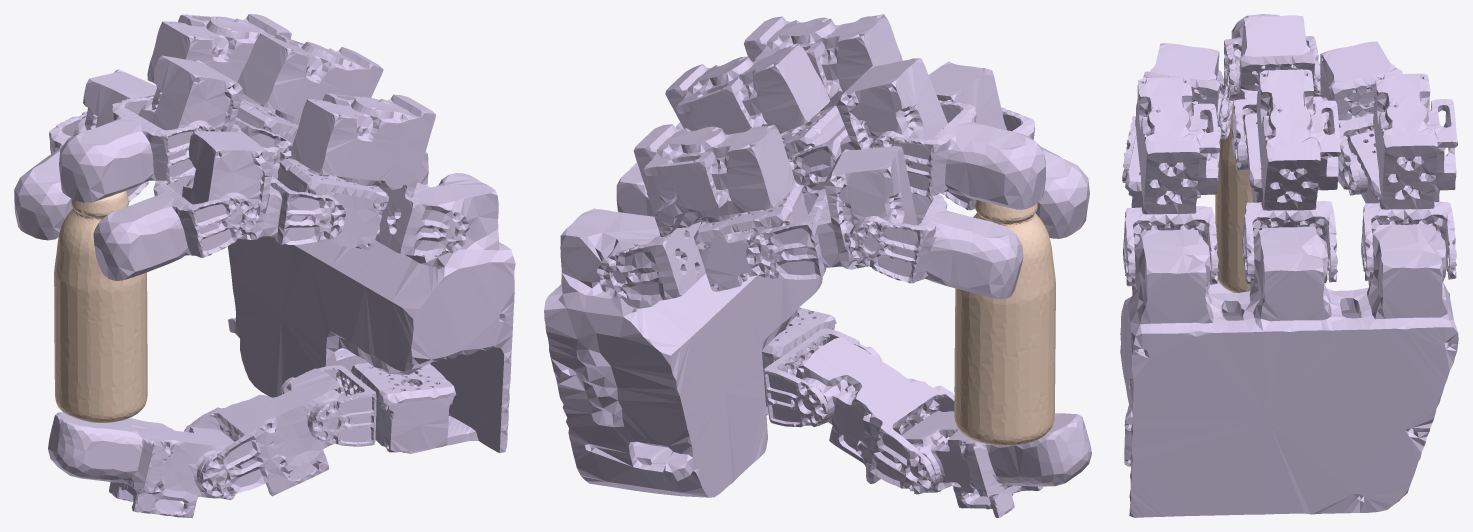
The model's file is 79bb8f418a7e5b-closed.glb.
3 views of the same model, side by side, from view 1: azimuth 30°, elevation 25°; view 2: azimuth 150°, elevation 25°; view 3: azimuth 270°, elevation 25° (orthographic). The views are drawn at different scales.
Visible parts, largest first — view 1: LEAP_hand, world; view 2: LEAP_hand, world; view 3: LEAP_hand, world.
Part boxes in pixels (<box>): LEAP_hand: <box>14,14,515,517</box>; world: <box>54,191,147,423</box>; LEAP_hand: <box>544,14,1091,517</box>; world: <box>954,200,1055,445</box>; LEAP_hand: <box>1120,14,1458,517</box>; world: <box>1215,101,1253,292</box>.
Size of the model in its own units: 0.1737 by 0.1682 by 0.1285.
